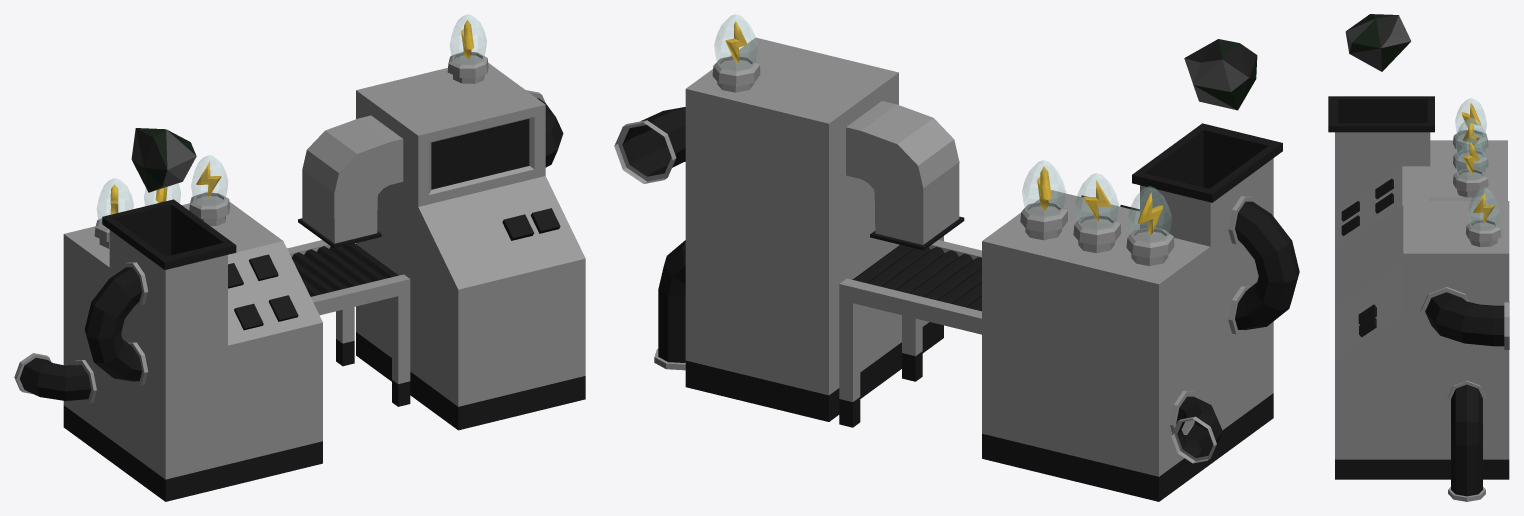
File: g_machine_metal.FBX
The picture shows the model from 3 angles, left to right: view 1: azimuth 30°, elevation 25°; view 2: azimuth 150°, elevation 25°; view 3: azimuth 270°, elevation 25°; orthographic projection. The views are drawn at different scales.
Visible parts, largest first — view 1: obj_machine_metal, obj_metal001; view 2: obj_machine_metal, obj_metal001; view 3: obj_machine_metal, obj_metal001.
Part boxes in pixels (<box>): obj_machine_metal: <box>14,14,585,501</box>; obj_metal001: <box>131,128,196,192</box>; obj_machine_metal: <box>614,14,1299,501</box>; obj_metal001: <box>1184,39,1257,110</box>; obj_machine_metal: <box>1328,96,1509,501</box>; obj_metal001: <box>1345,14,1411,71</box>.
Size of the model in its own units: 23.23 by 14.58 by 8.02.
